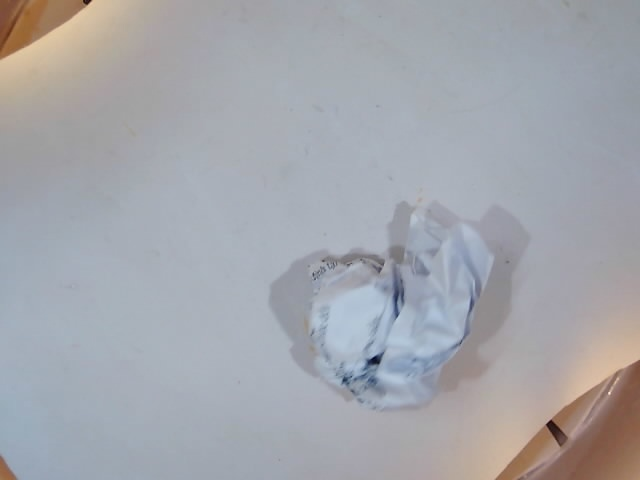paper: (289, 204, 496, 419)
